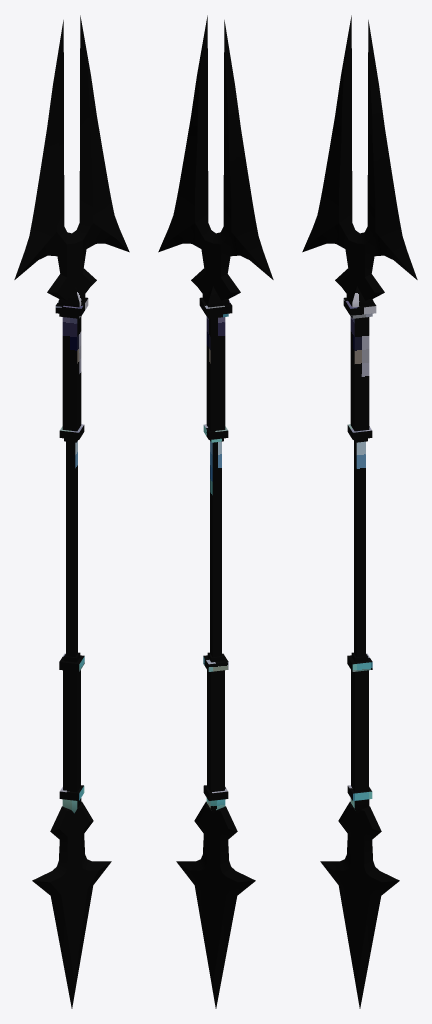
The model's file is moonglade.obj.
The picture shows the model from 3 angles, left to right: view 1: azimuth 30°, elevation 25°; view 2: azimuth 150°, elevation 25°; view 3: azimuth 330°, elevation 25°; orthographic projection.
Visible parts, largest first — view 1: Vert.002; view 2: Vert.002; view 3: Vert.002.
Boxes of the visible parts, x1,y1,x2,y2 form: Vert.002: [14, 15, 129, 1008]; Vert.002: [158, 15, 273, 1008]; Vert.002: [302, 15, 417, 1008].
Bounding box in the file's own units: 28.54 × 234 × 8.13.
